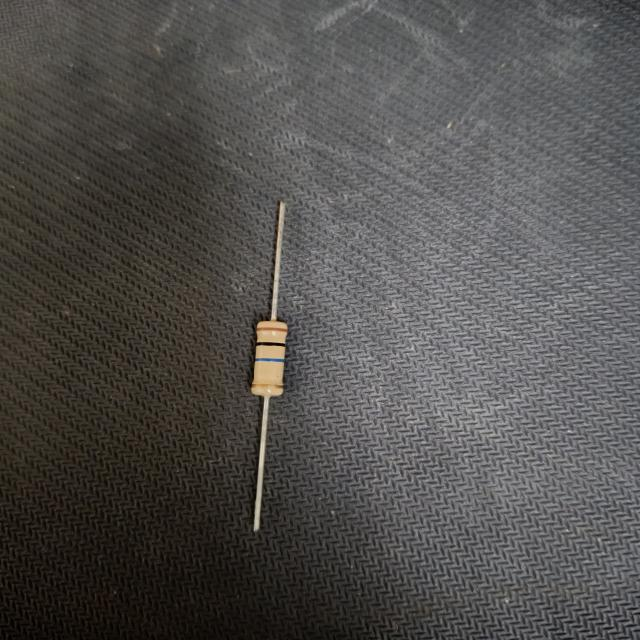resistor: (235, 191, 322, 547)
